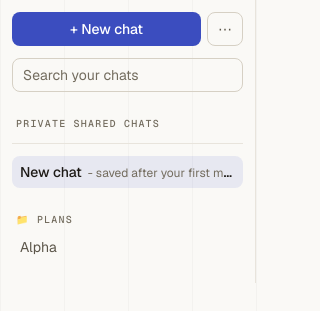
Test: deletion consequences › says a deleted folder leaves its chats unfiled
Expected: the button "Alpha" is shown, [12, 231, 243, 263]
Click the button named "Chat list options" at (225, 29), box [207, 12, 243, 46]
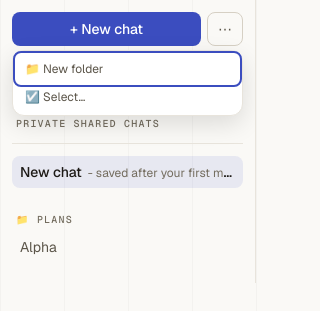
Click the button "☑️ Select…" at (128, 97), box [17, 83, 238, 111]
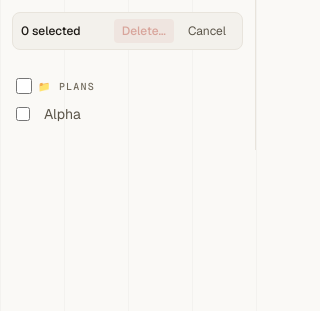
Click the checkbox named "Select folder Plans" at (24, 86), box [16, 78, 32, 94]
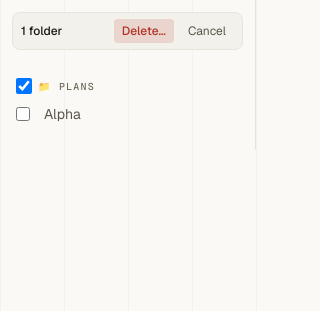
Click the button "Delete…" at (144, 31), box [114, 19, 174, 43]
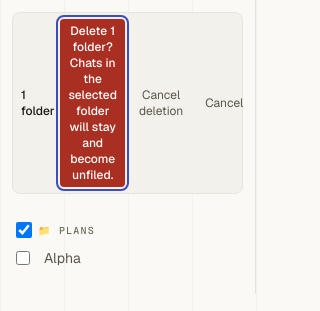
Result: the 1st button is shown at [60, 19, 125, 187]
